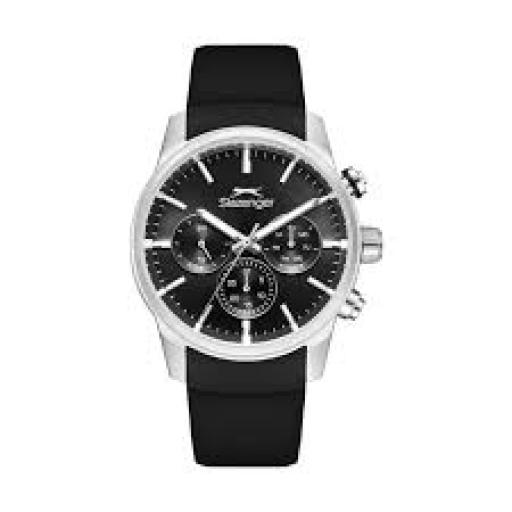KolSaati: (118, 27, 385, 481)
